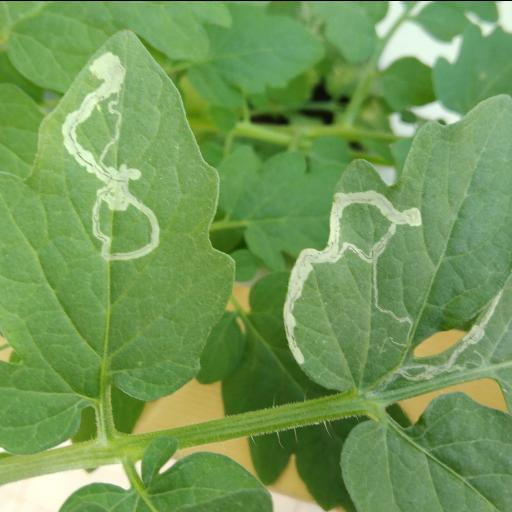disease_tomato: (0, 27, 235, 454), (278, 94, 512, 392)
